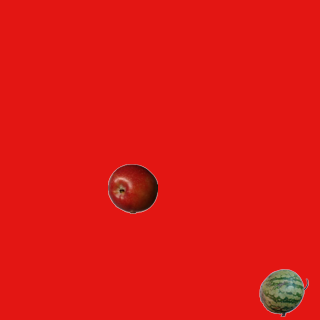Apple Braeburn: (107, 163, 157, 213)
Watermelon: (258, 267, 308, 317)
